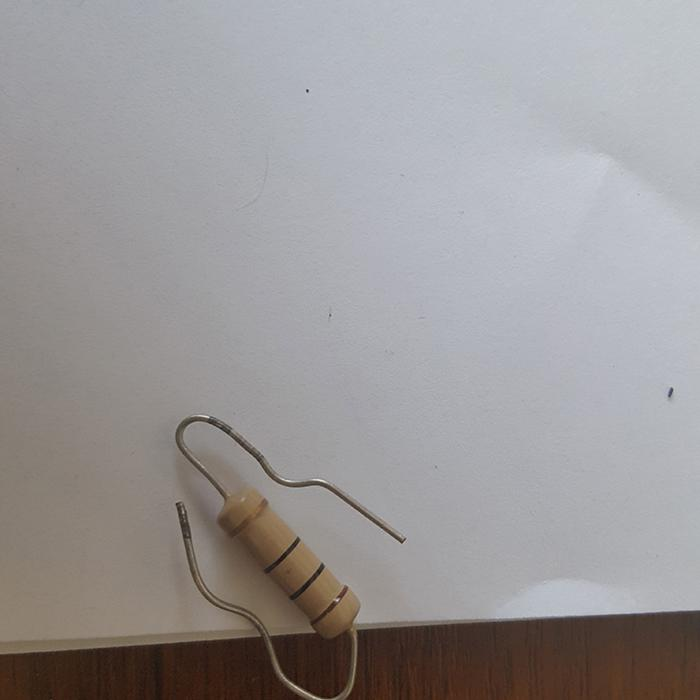resistor: (215, 484, 358, 636)
